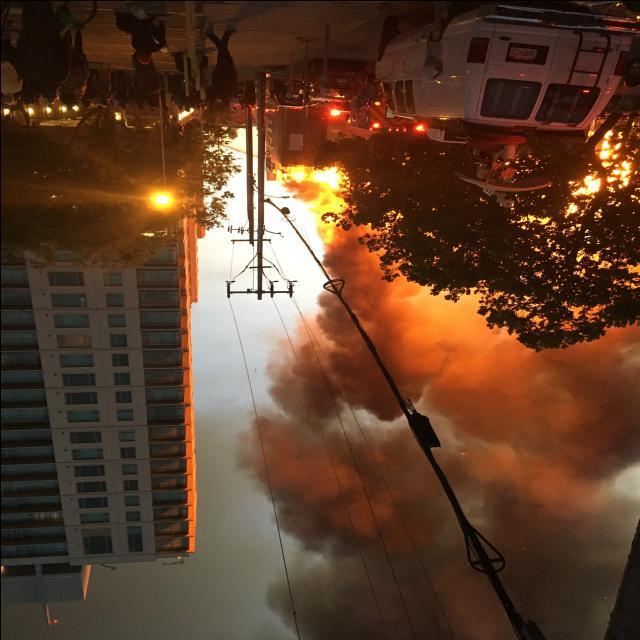Fire: (294, 121, 640, 278)
